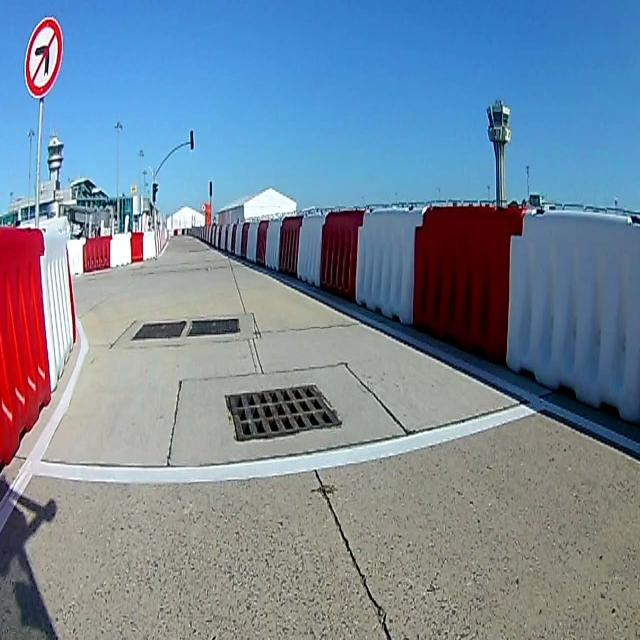soladonulmez: (24, 19, 62, 95)
